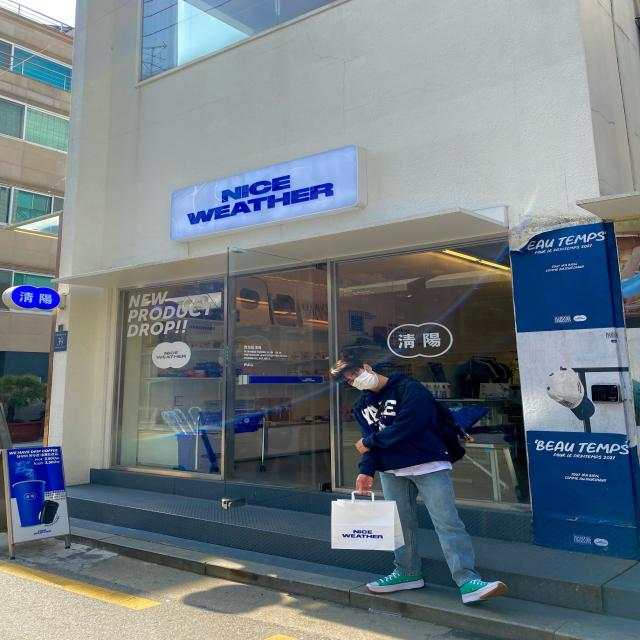denimpants: (378, 461, 477, 581)
hoodies: (353, 370, 455, 480)
